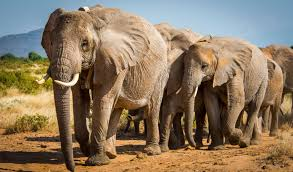Elephant: (40, 7, 171, 172)
